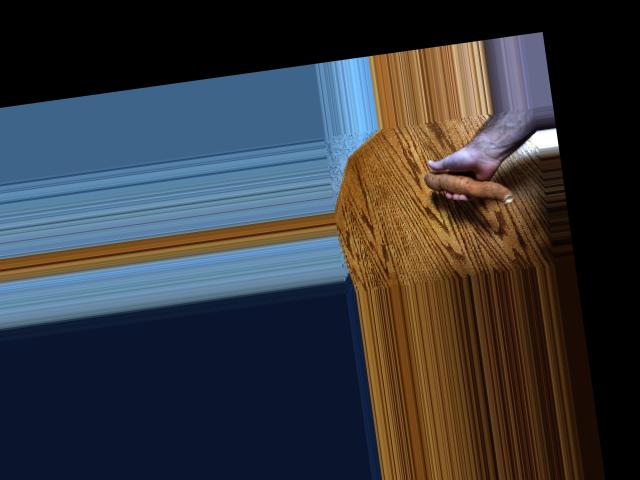sweet_potato: (423, 160, 516, 213)
